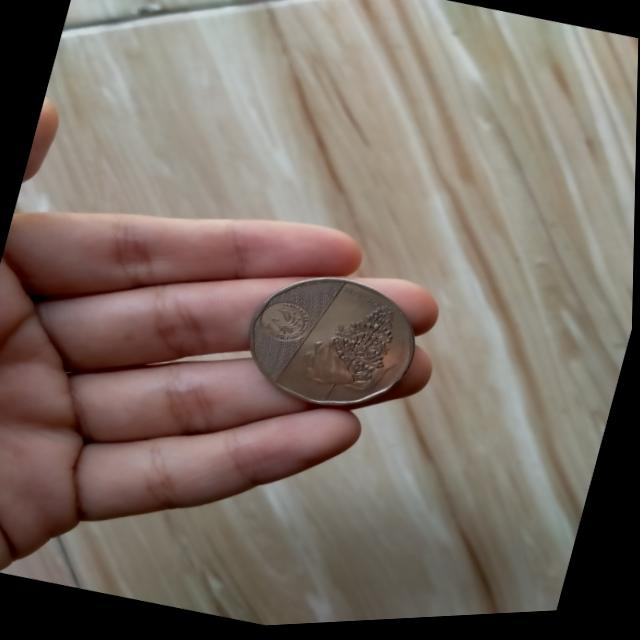10_New_Back: (286, 284, 422, 420)
